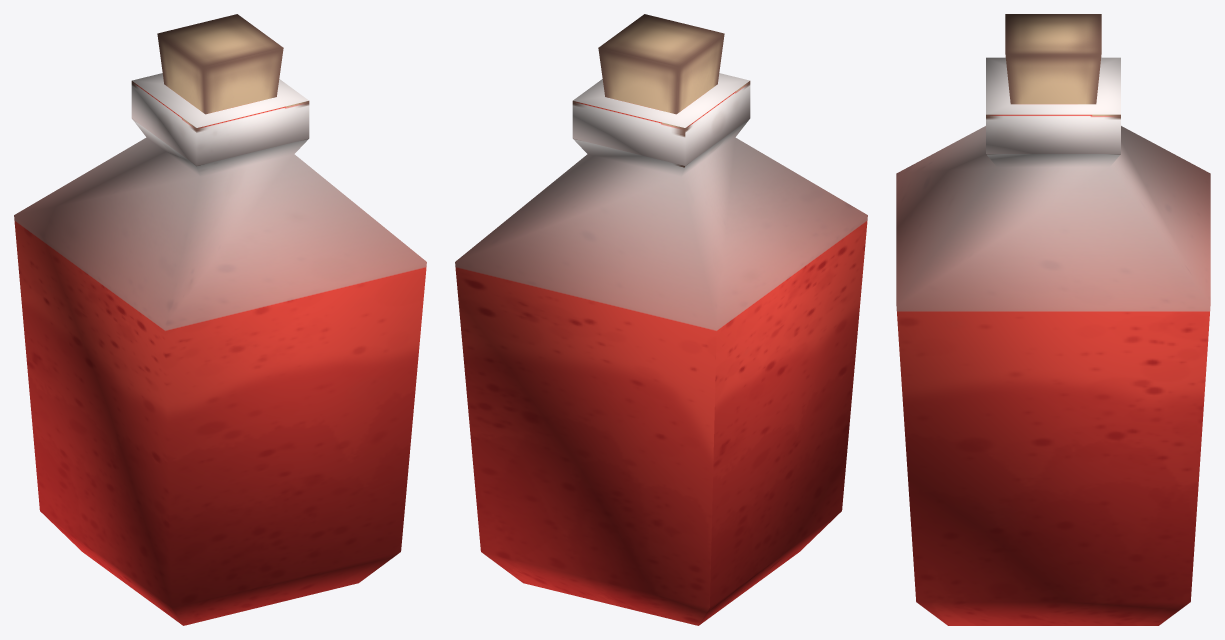
3 views of the same model, side by side, from view 1: azimuth 30°, elevation 25°; view 2: azimuth 150°, elevation 25°; view 3: azimuth 270°, elevation 25° (orthographic). The views are drawn at different scales.
Parts seen in each view (by area): view 1: red1; view 2: red1; view 3: red1.
Part boxes in pixels (x1,y1,x2,y2): red1: [14, 14, 426, 625]; red1: [455, 14, 867, 625]; red1: [896, 14, 1210, 625].
Size of the model in its own units: 114 by 219 by 114.
